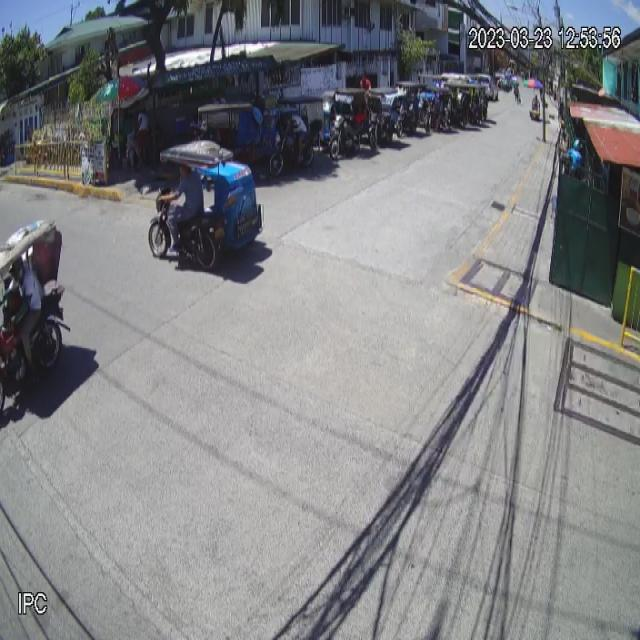Tricycle: (142, 137, 268, 280)
